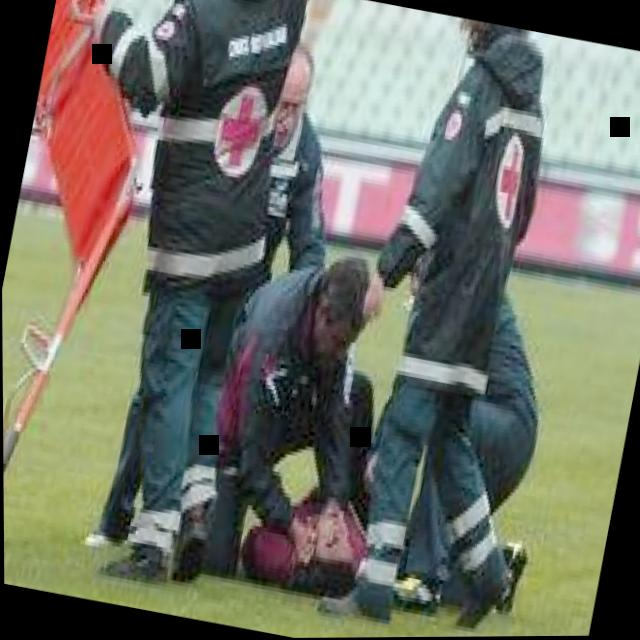Fall-Detected: (223, 451, 384, 609)
